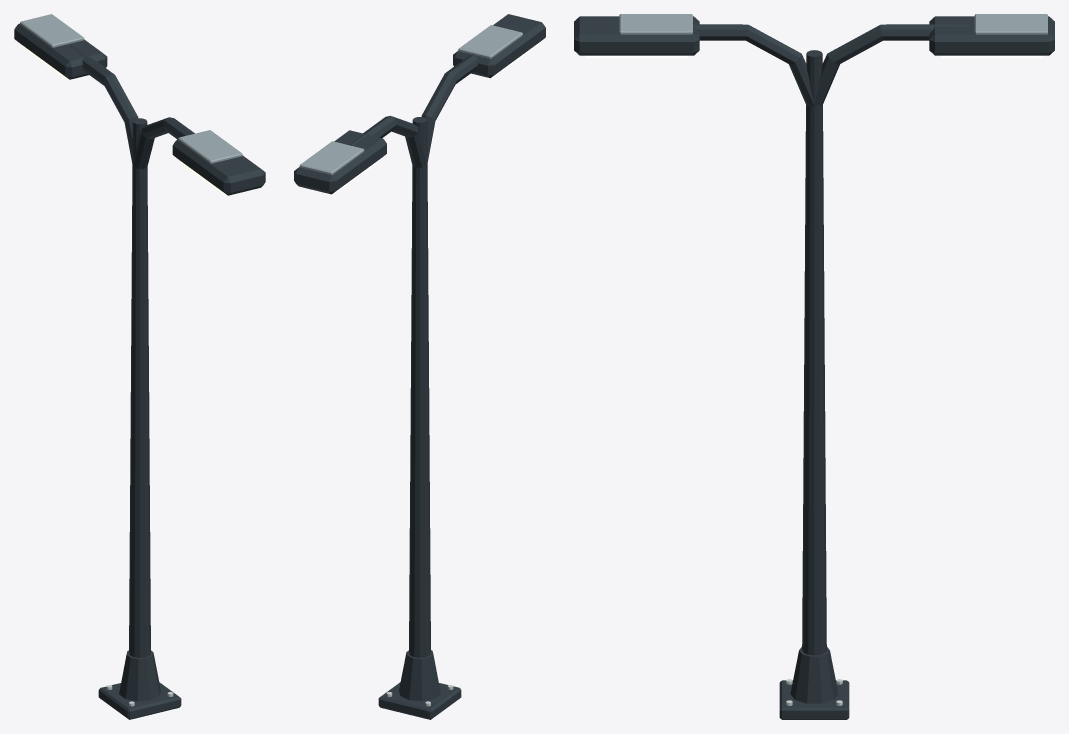
The model's file is Streetlight_Double.glb.
The picture shows the model from 3 angles, left to right: view 1: azimuth 30°, elevation 25°; view 2: azimuth 150°, elevation 25°; view 3: azimuth 270°, elevation 25°; orthographic projection. The views are drawn at different scales.
Visible parts, largest first — view 1: Streetlight_Double; view 2: Streetlight_Double; view 3: Streetlight_Double.
Boxes of the visible parts, box(x1,y1,x2,y2) form: Streetlight_Double: box(14, 14, 265, 719); Streetlight_Double: box(294, 14, 545, 719); Streetlight_Double: box(574, 14, 1054, 719).
Bounding box in the file's own units: 0.36 × 3.91 × 2.49.
